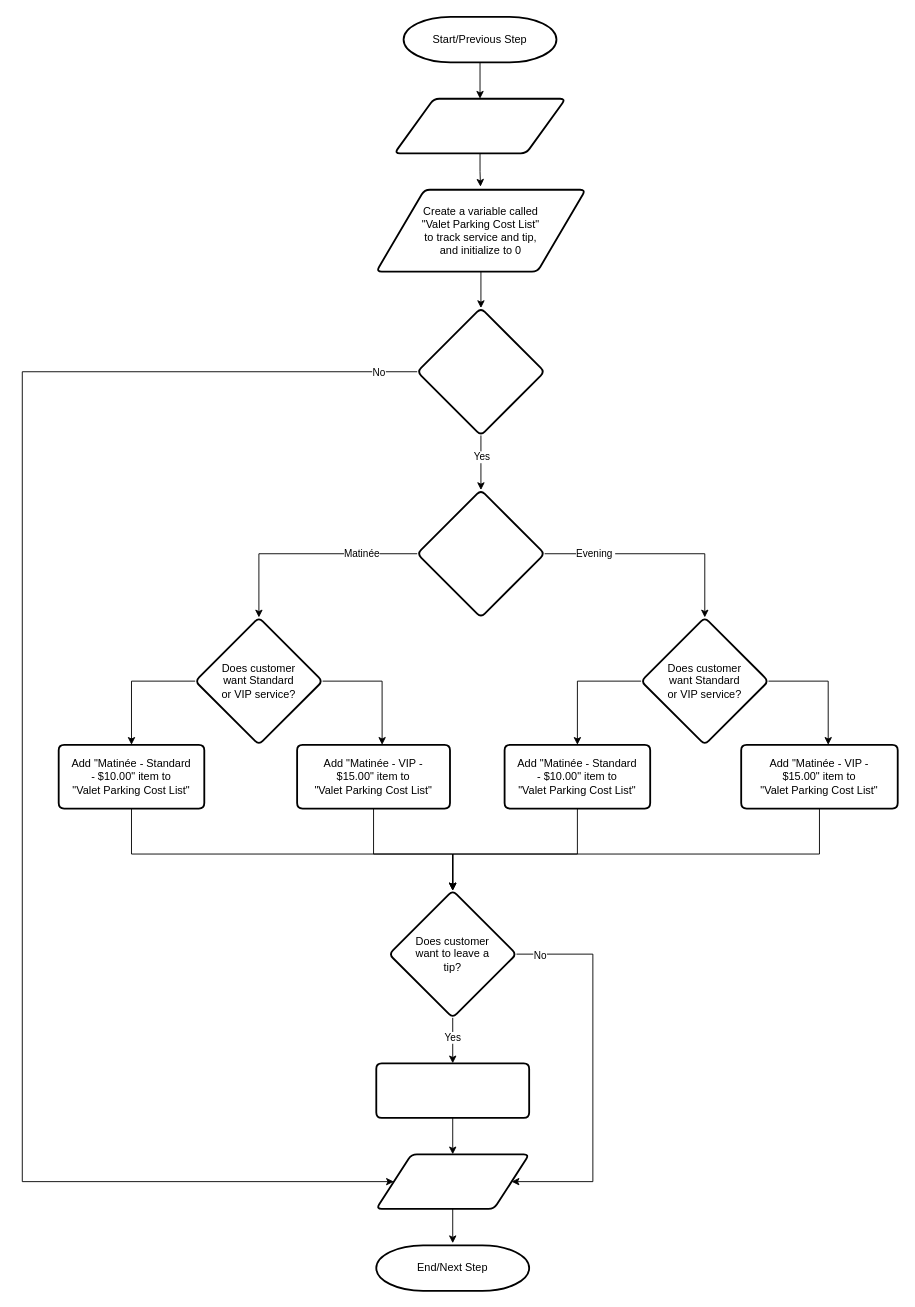
This 915x1307 diagram has some shape labels left out. Each missing label, with the centre of its shape:
Add "Tip" and "Amount" to "Valet Parking Cost List": (452,1090)
Does the customer want to purchase Valet Parking?: (480,371)
Import and store "Valet Parking Price List": (479,125)
Is parking for a Matinée or an Evening show?: (480,553)
Output "Valet Parking Cost List": (452,1181)
